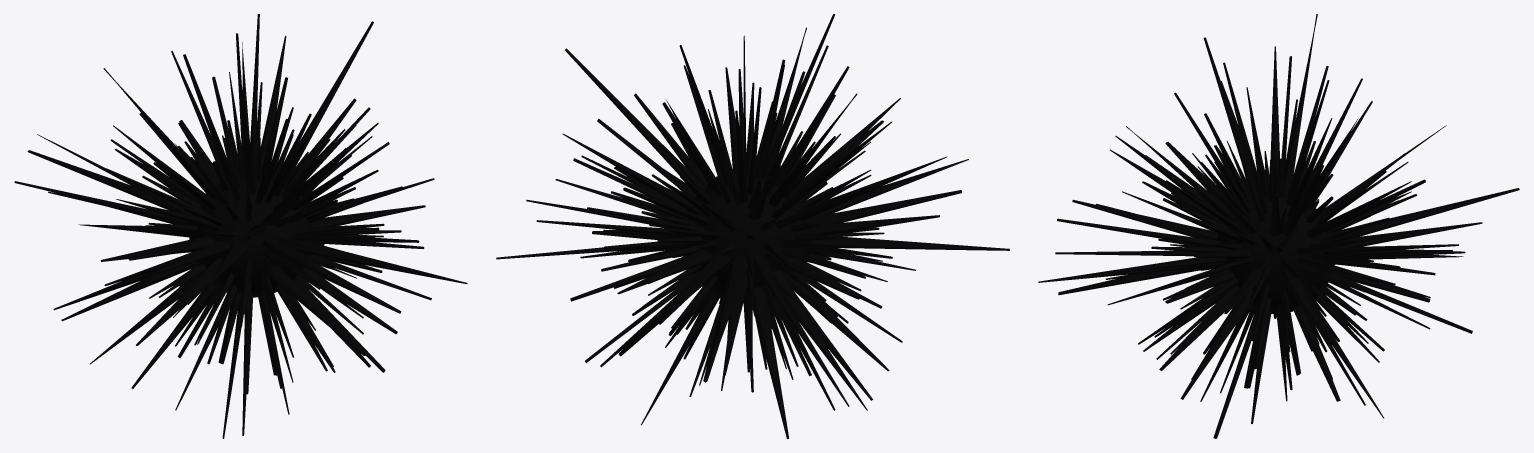
The model's file is urchin.fbx.
3 views of the same model, side by side, from view 1: azimuth 30°, elevation 25°; view 2: azimuth 150°, elevation 25°; view 3: azimuth 270°, elevation 25° (orthographic). The views are drawn at different scales.
Parts seen in each view (by area): view 1: Sphere.001; view 2: Sphere.001; view 3: Sphere.001.
Part boxes in pixels (<box>): Sphere.001: <box>14,14,467,438</box>; Sphere.001: <box>496,14,1009,438</box>; Sphere.001: <box>1038,14,1519,438</box>.
Size of the model in its own units: 663 by 652 by 789.
1 material, 1 textured.
